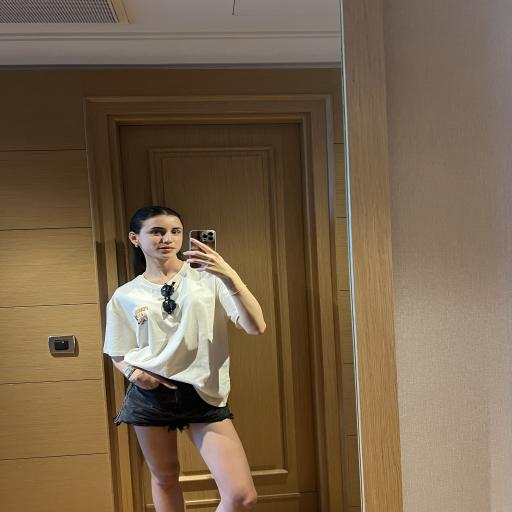masa: (142, 219, 186, 260)
